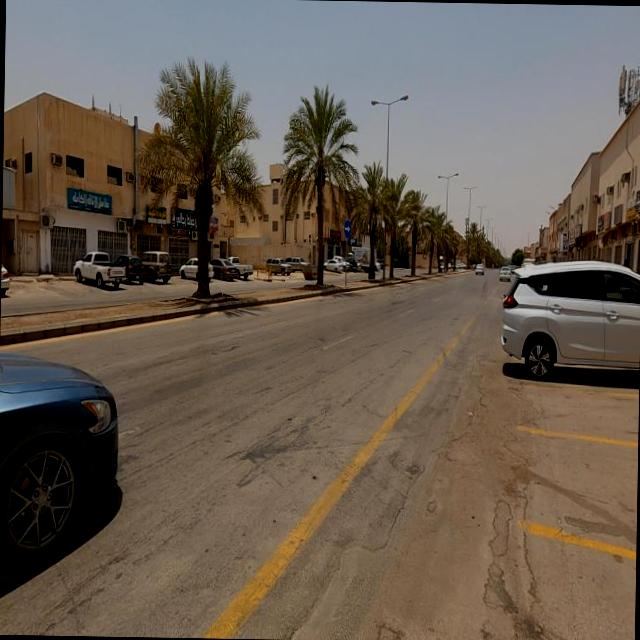debris: (570, 196, 640, 278), (557, 200, 610, 280)
